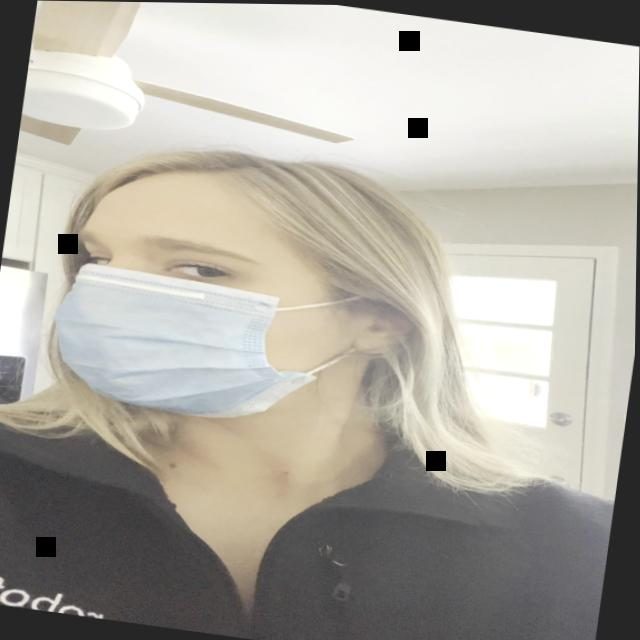Mask: (29, 132, 481, 471)
